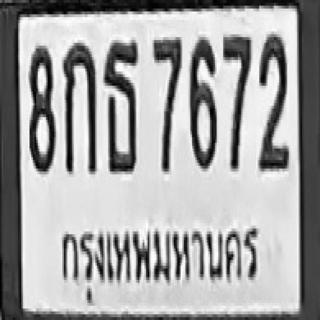A01: (62, 40, 97, 174)
A24: (103, 39, 138, 173)
N02: (258, 33, 289, 170)
N06: (189, 37, 217, 168)
N07: (222, 34, 252, 171), (152, 36, 181, 170)
N08: (28, 43, 56, 173)
P04: (52, 211, 266, 303)
